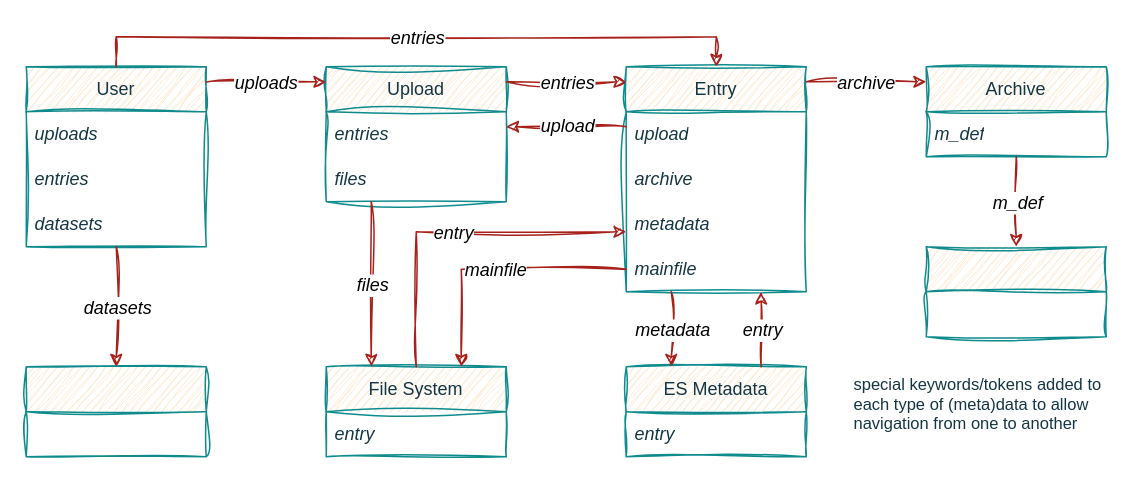
This 1133x483 diagram has some shape labels left out. Each missing label, with the centre of its shape:
Dataset: point 115,411
Definition: point 1015,291
